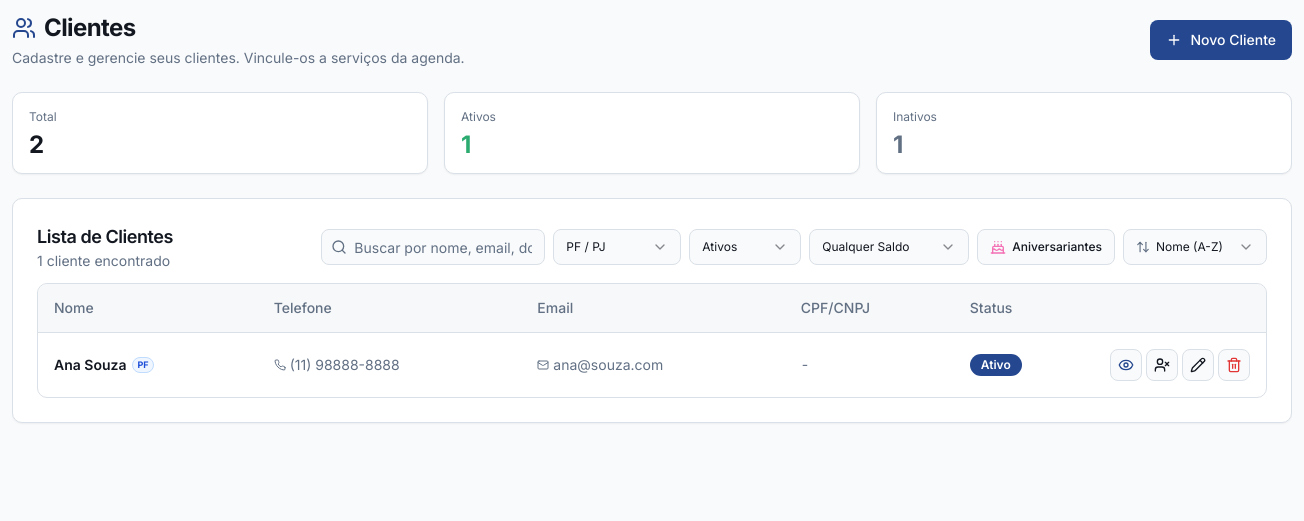
Scenario: Customers CRM Component › deve permitir filtrar clientes por busca textual
This screenshot has width=1304, height=521.
Expected: the text "Ana Souza" is shown, [54,354,126,374]
# Buscar por um nome inexistente
Type "Inexistente" into the field with placeholder "Buscar por nome, email, doc..." at (433, 247), box [321,229,545,265]
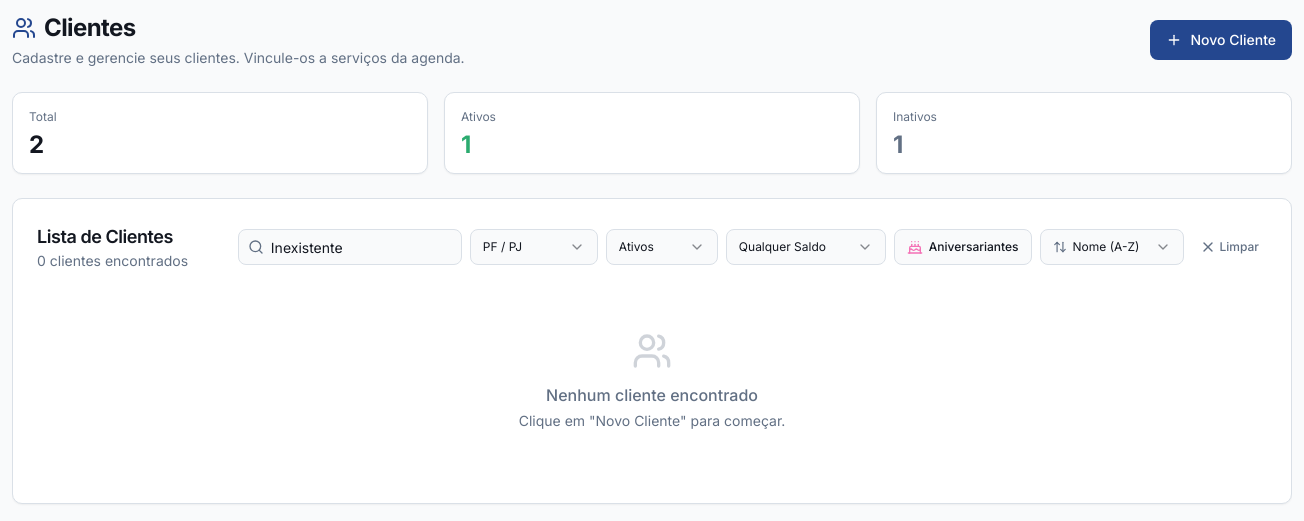
Expected: the text "Ana Souza" is gone
# Limpar busca
Clear the field with placeholder "Buscar por nome, email, doc..." at (350, 247), box [238,229,462,265]
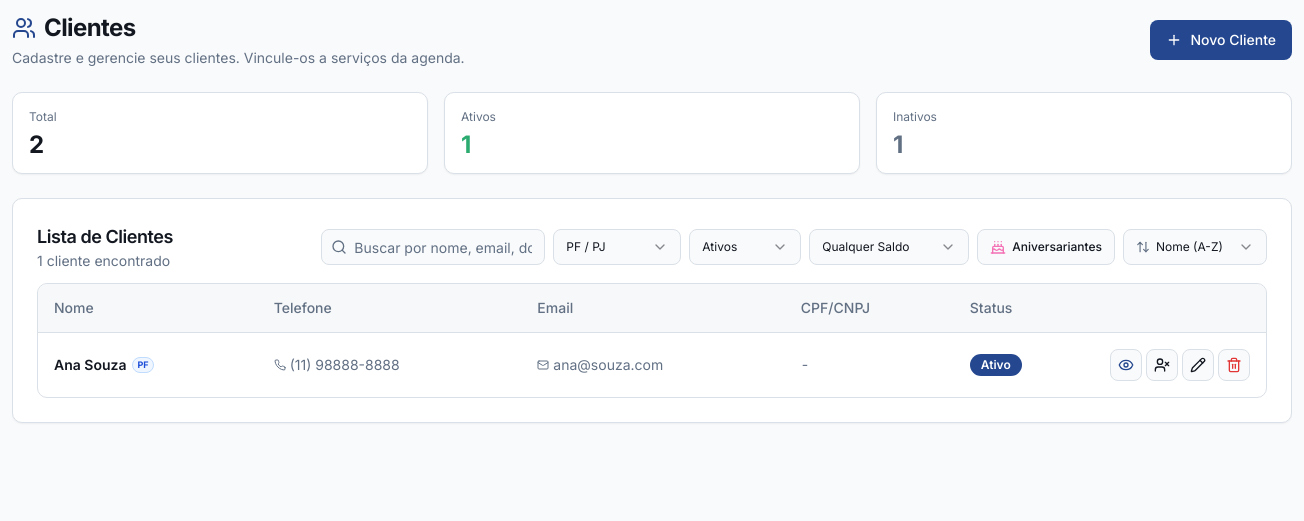
Expected: the text "Ana Souza" is shown, [54,354,126,374]
